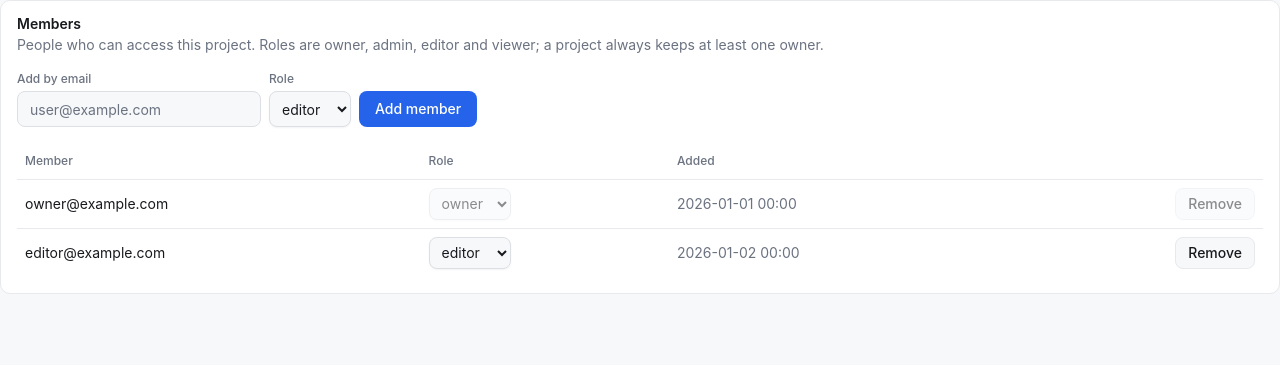
MembersPanel › lets an owner add an existing user by email
Expected: the text "owner@example.com" is shown, [17,179,421,228]
Type "new@example.com" into the field labelled "Add by email" at (139, 109), box [17,91,261,127]
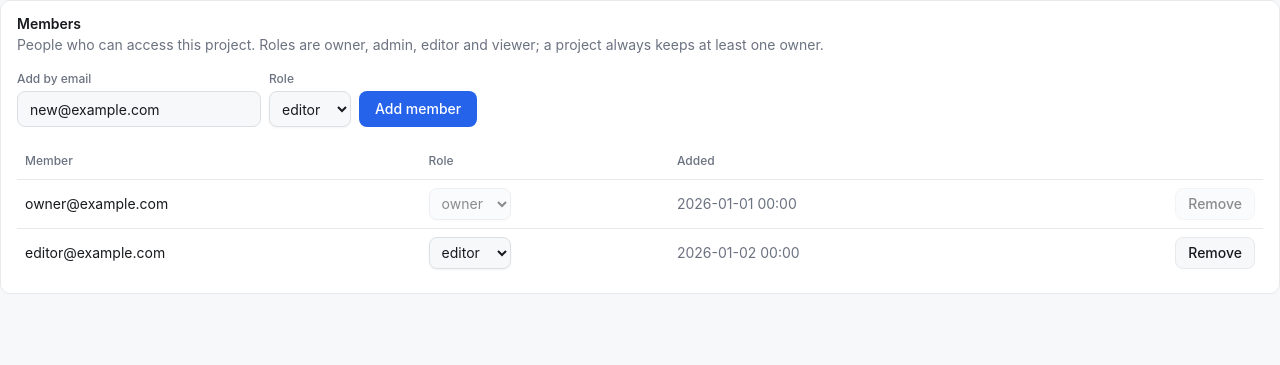
Select "admin" in the dropdown labelled "Role" at (310, 109), box [269,91,351,127]
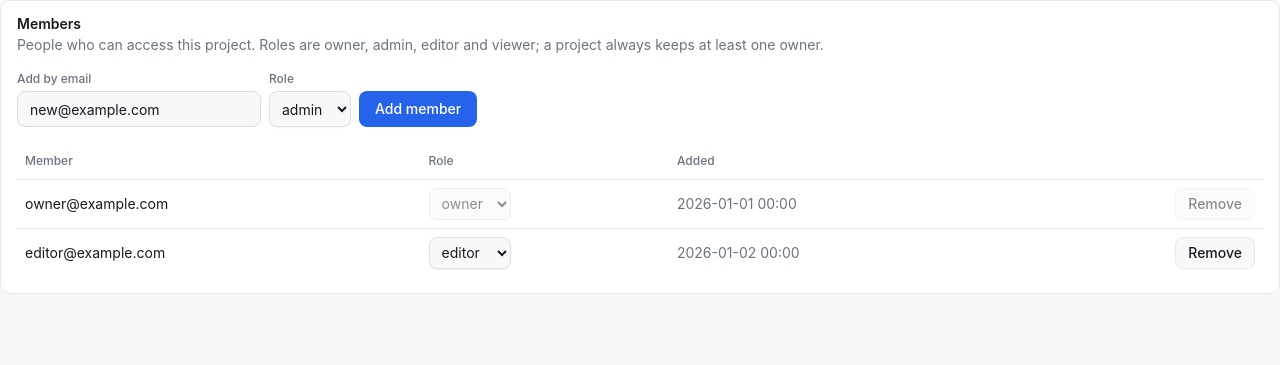
Click the button "Add member" at (418, 109), box [359,91,477,127]
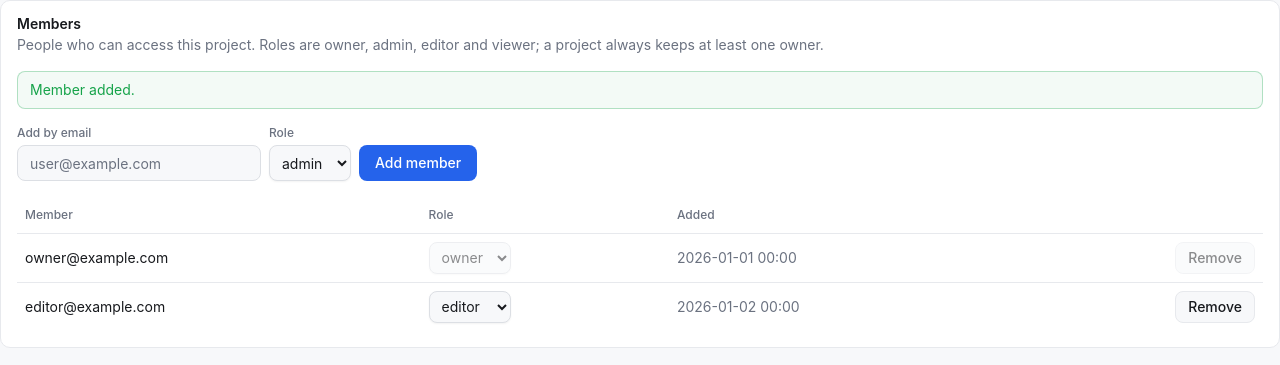
Now the text "Member added." is shown, box [17,71,1263,109]
